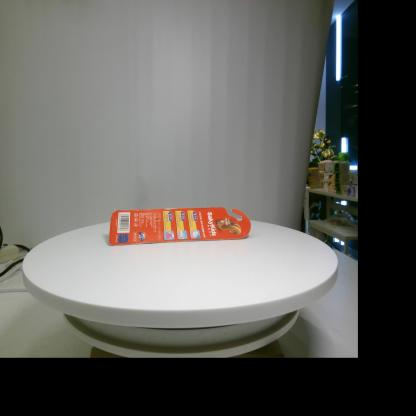Personal Hygiene: (109, 207, 251, 246)
